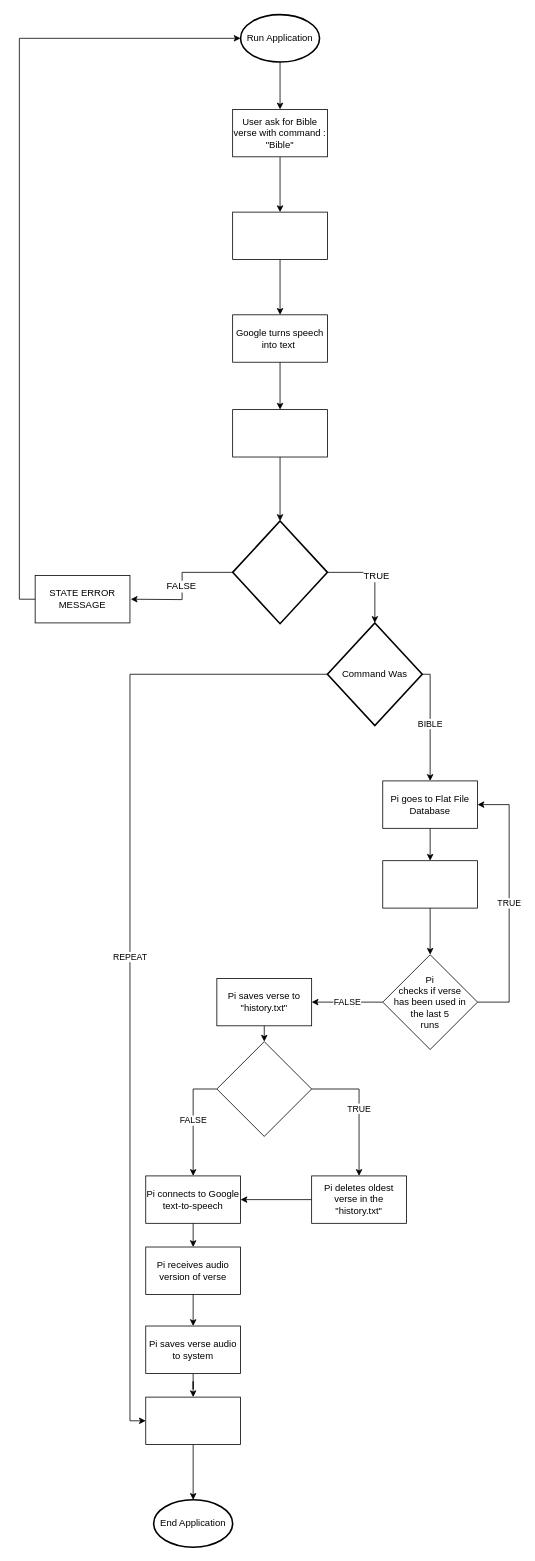
Some shapes in this 535 by 1561 pixel diagram are drawn without their labels. The centre of each missing label's shape, as x and y in pixels:
Command goes to google speech-to-text: [279,235]
Pi checks if command from user is recognized: [279,572]
Pi checks if more than 5 verses exist in "history.txt": [264,1088]
Pi plays saved verse on speakers: [193,1420]
Pi receives random verse: [430,884]
texts is sent to Raspberry Pi: [279,433]
